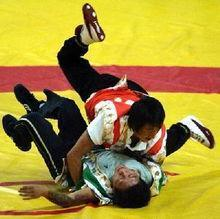Fall-Detected: (8, 0, 208, 196)
